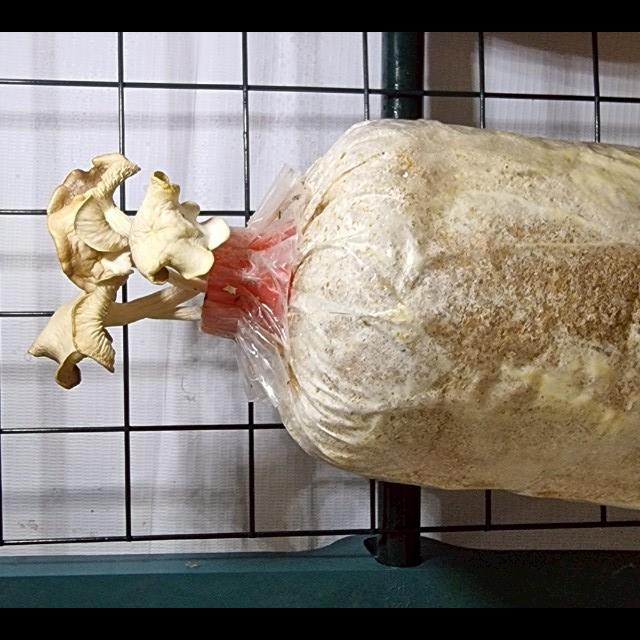abnormal: (53, 142, 223, 280), (25, 282, 223, 389), (122, 170, 228, 284)
